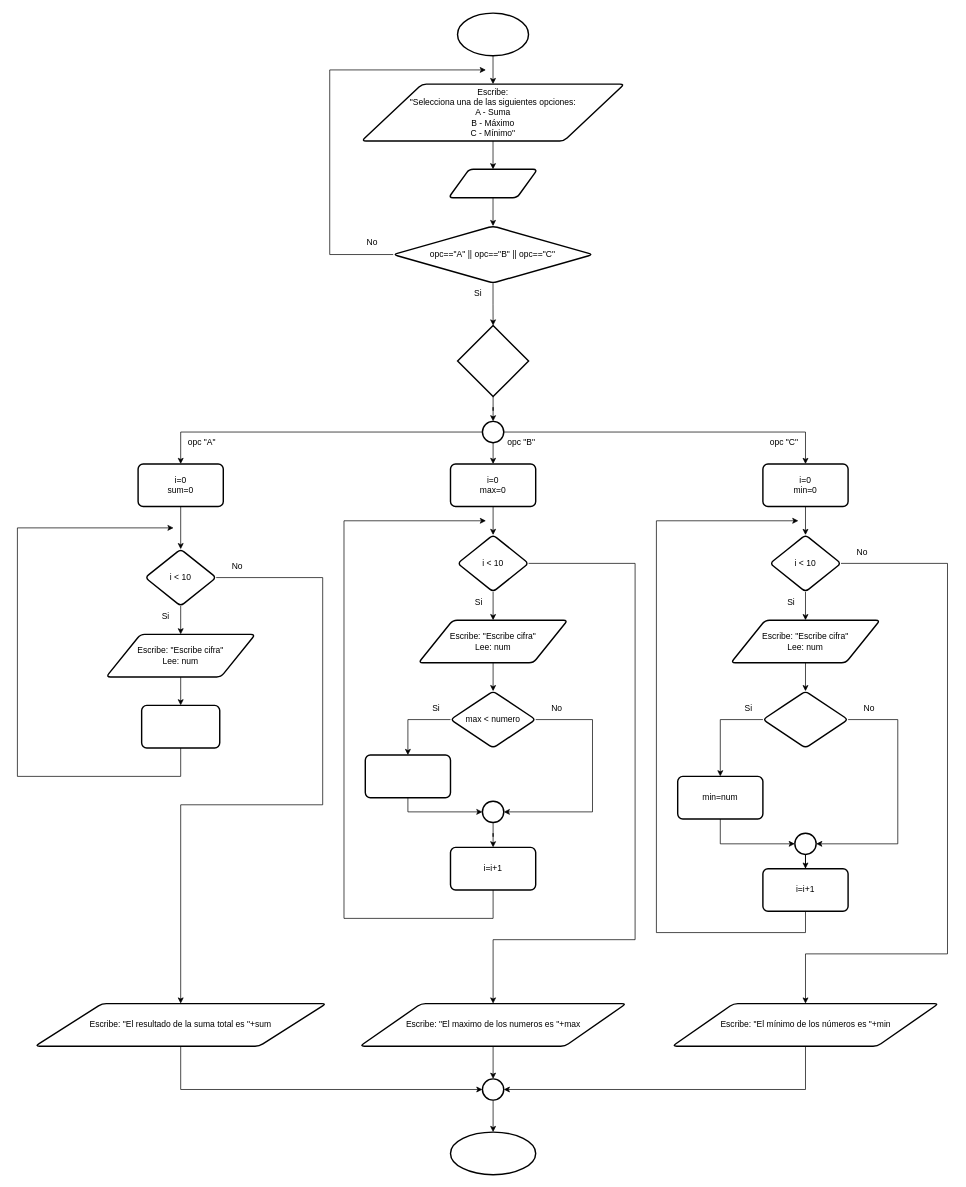
Image size: 966x1187. Some labels were removed from this diagram. Here are the shapes that lost their labels. From the top down, the centre of each, then its label:
At [492,34]: "INICIO".
At [493,183]: "Lee: opc".
At [493,360]: "opc".
At [180,726]: "sum=sum+num i=i+1".
At [805,719]: "min > num".
At [407,776]: "max=numero".
At [492,1153]: "FIN".
